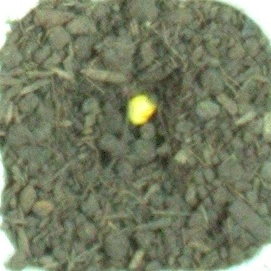chilli seed: (125, 92, 157, 126)
